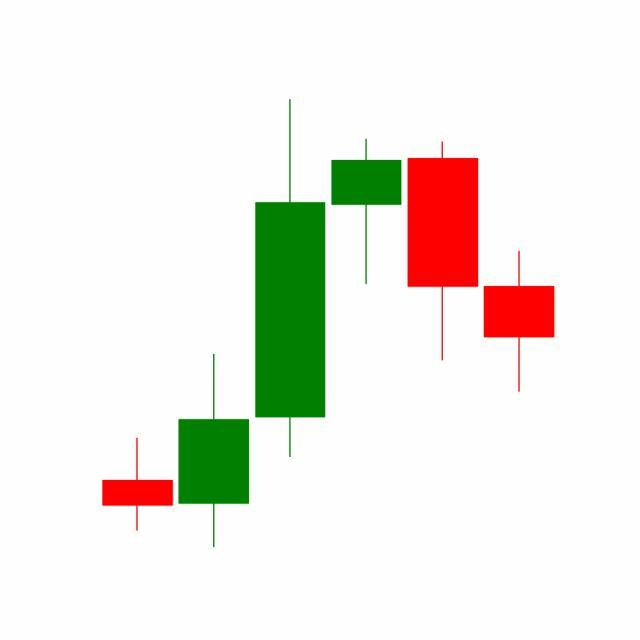Three Outside Up-Down: (326, 136, 555, 395)
